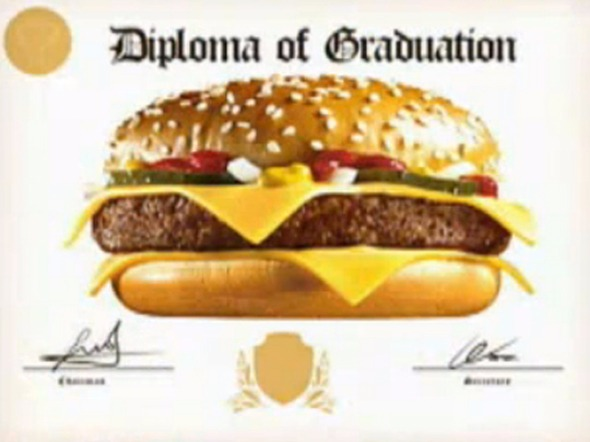hamburger: (78, 88, 533, 317)
